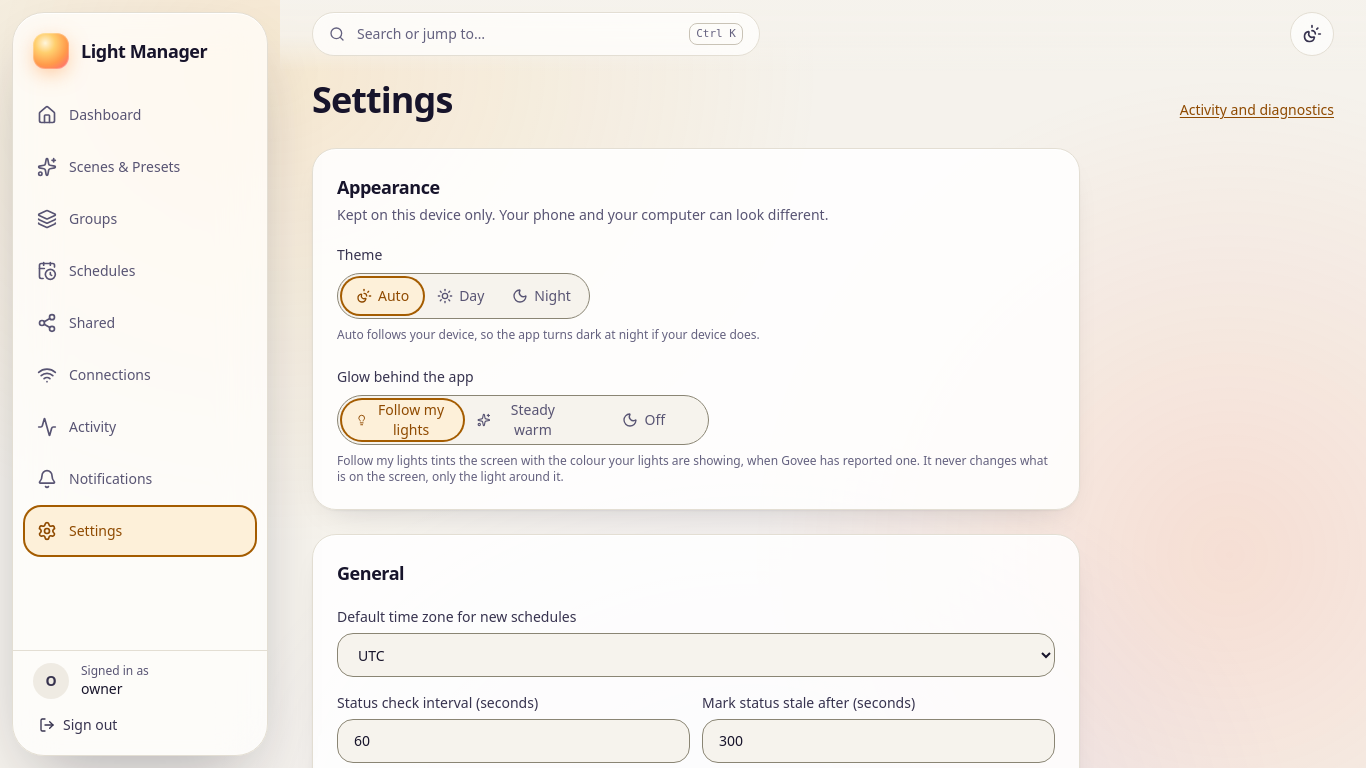
Test: shows the sign-in page as soon as you sign out
Click the button "Sign out" at (140, 725), box [25,707,255,743]
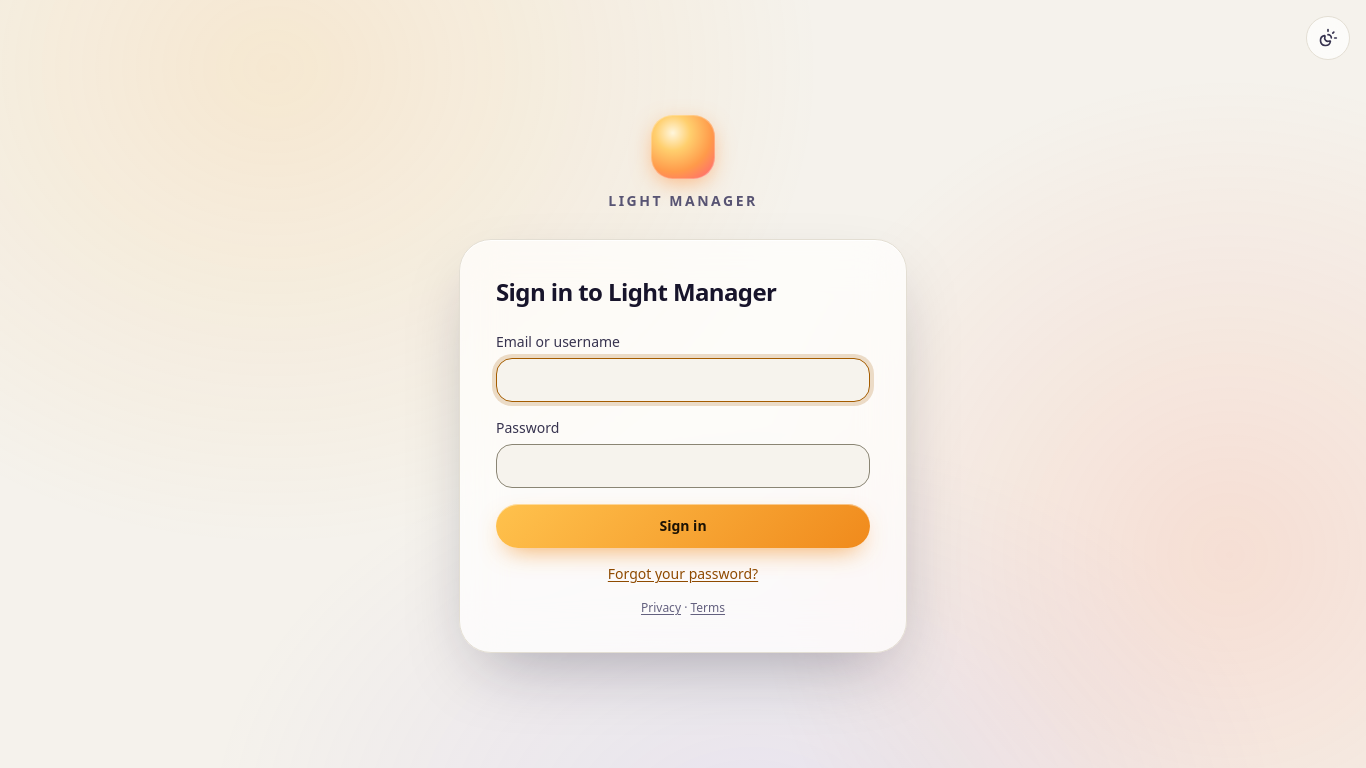
Check: the heading "Sign in to Light Manager" is shown, box [496,275,776,308]
